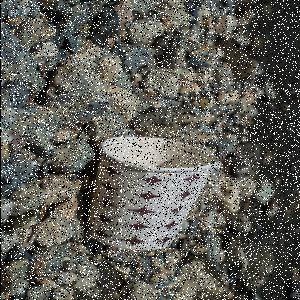Cup: (85, 137, 223, 253)
